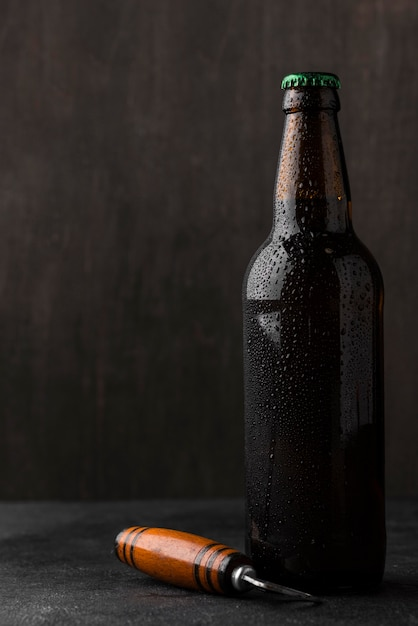alcohol: (240, 71, 396, 600)
